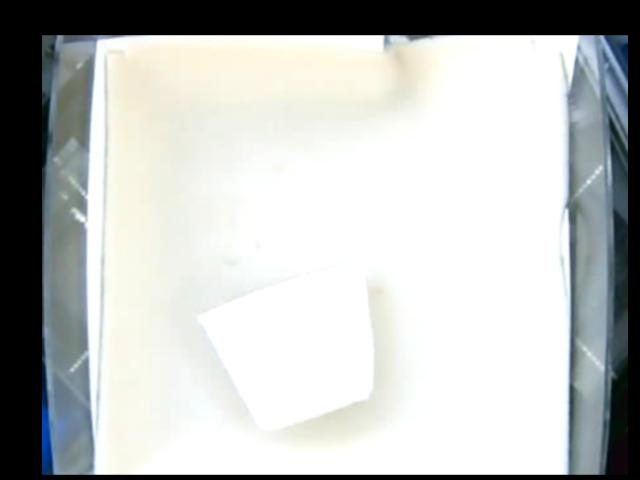Cup: (196, 258, 376, 426)
